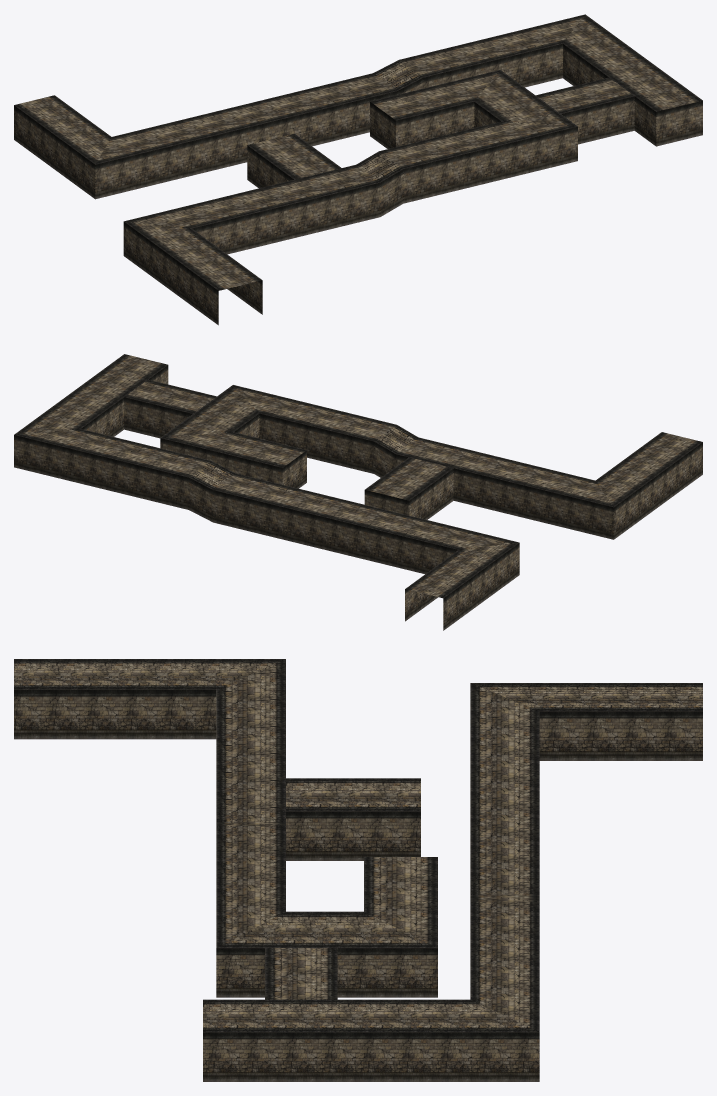
The model's file is Old_PhoenixCastle_Block_destruct_wall01.FBX.
3 views of the same model, one above another, from view 1: azimuth 30°, elevation 25°; view 2: azimuth 150°, elevation 25°; view 3: azimuth 270°, elevation 25° (orthographic). The views are drawn at different scales.
Parts seen in each view (by area): view 1: Object006; view 2: Object006; view 3: Object006.
Boxes of the visible parts, <box> form: Object006: <box>14,14,702,325</box>; Object006: <box>14,354,702,630</box>; Object006: <box>14,659,702,1081</box>.
Size of the model in its own units: 9178 by 678 by 6953.
Materials: 2 (2 with a texture image).
